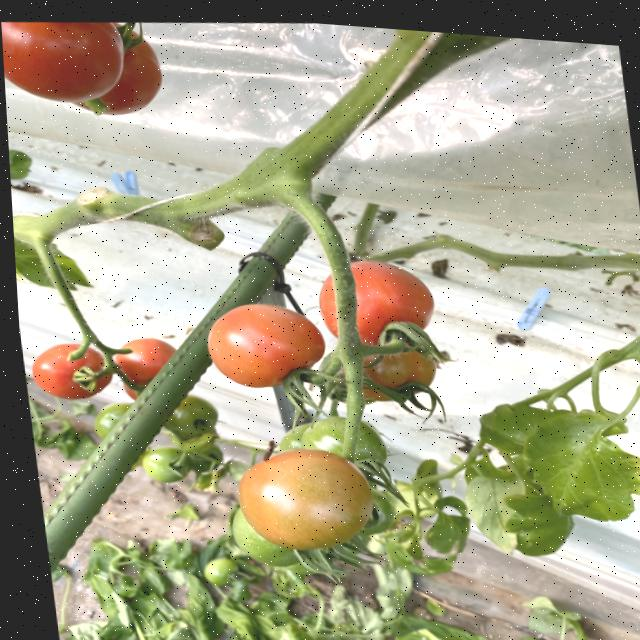ripe1: (235, 449, 378, 552)
ripe2: (201, 303, 331, 389), (1, 22, 131, 104), (314, 259, 438, 337), (28, 343, 114, 400)
